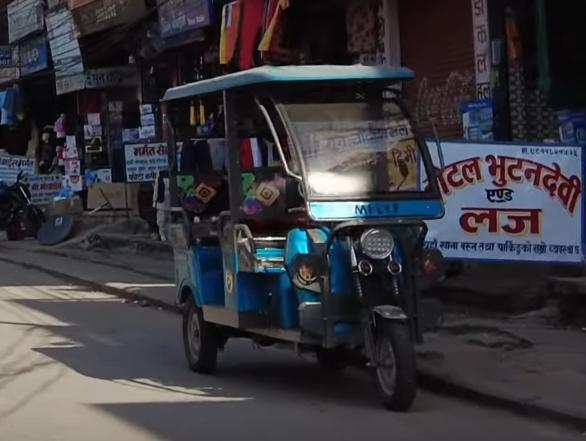e-rickshaw: (162, 60, 442, 423)
